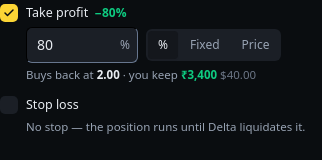
Test: the target, in percent › [critical] typing 82.5 keeps the decimal on the way there
Replace the text in the field named "target percent" with "82." at (82, 45), box [26,27,138,63]
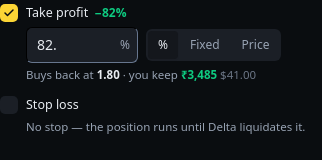
Replace the text in the field named "target percent" with "82.5" at (82, 45), box [26,27,138,63]
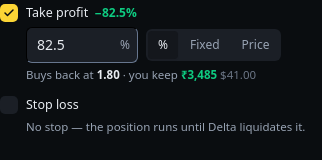
Check: the text "1.80" is shown, box [97,67,120,82]
Check: the text "−82.5%" is shown, box [94,4,137,22]
